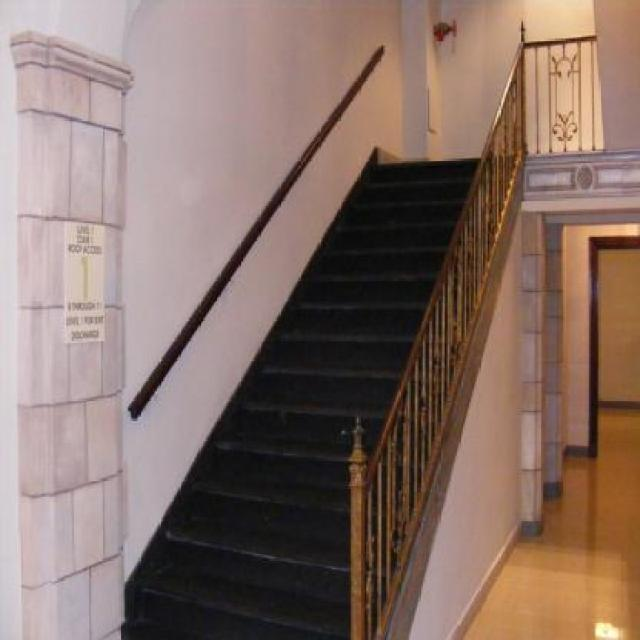stair: (120, 146, 509, 640)
